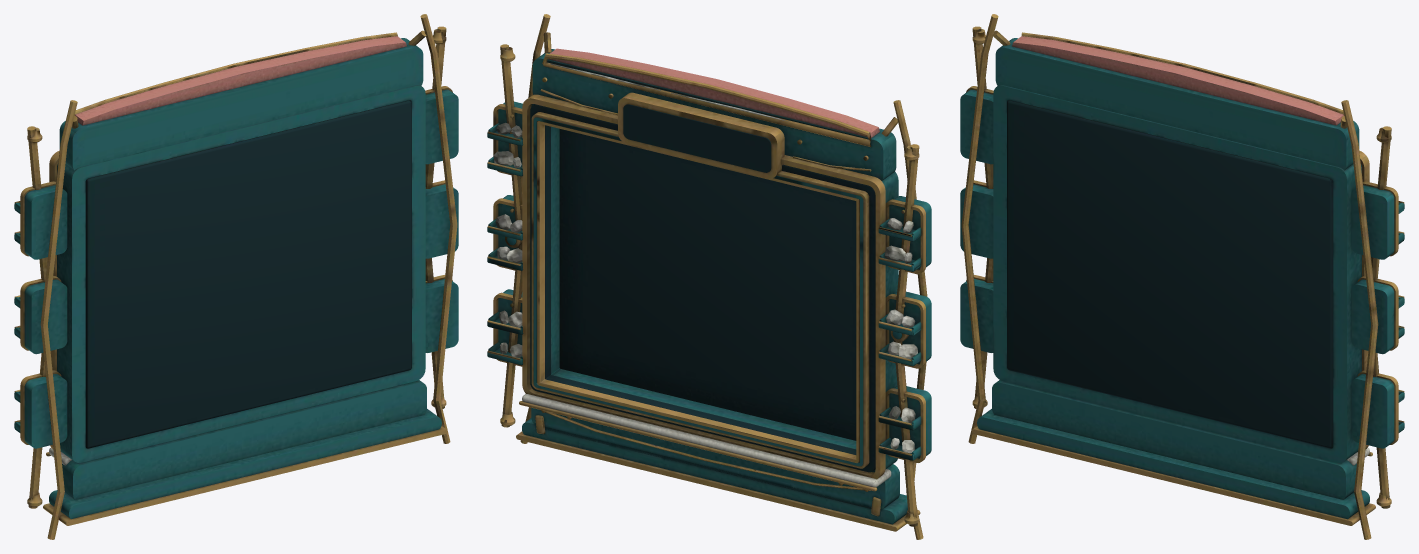
The picture shows the model from 3 angles, left to right: view 1: azimuth 30°, elevation 25°; view 2: azimuth 150°, elevation 25°; view 3: azimuth 330°, elevation 25°; orthographic projection.
Visible parts, largest first — view 1: Uniform_dark_teal, Woven_teal_canvas, Expedition_satin_brass, Coral_horizon; view 2: Uniform_dark_teal, Expedition_satin_brass, Woven_teal_canvas, Chalk_salt_specimens, Coral_horizon; view 3: Uniform_dark_teal, Woven_teal_canvas, Expedition_satin_brass, Coral_horizon.
Part boxes in pixels (x1,y1,x2,y2): Uniform_dark_teal: (85, 100, 411, 448); Woven_teal_canvas: (14, 38, 458, 519); Expedition_satin_brass: (14, 14, 457, 539); Coral_horizon: (75, 36, 406, 125); Uniform_dark_teal: (530, 104, 875, 472); Expedition_satin_brass: (487, 14, 927, 539); Woven_teal_canvas: (487, 49, 931, 524); Chalk_salt_specimens: (493, 64, 917, 487); Coral_horizon: (548, 48, 879, 137); Uniform_dark_teal: (1007, 100, 1333, 448); Woven_teal_canvas: (960, 38, 1404, 519); Expedition_satin_brass: (961, 14, 1404, 539); Coral_horizon: (1012, 36, 1343, 125).
Size of the model in its own units: 9.34 by 8.99 by 1.24.
5 materials, 5 textured.
